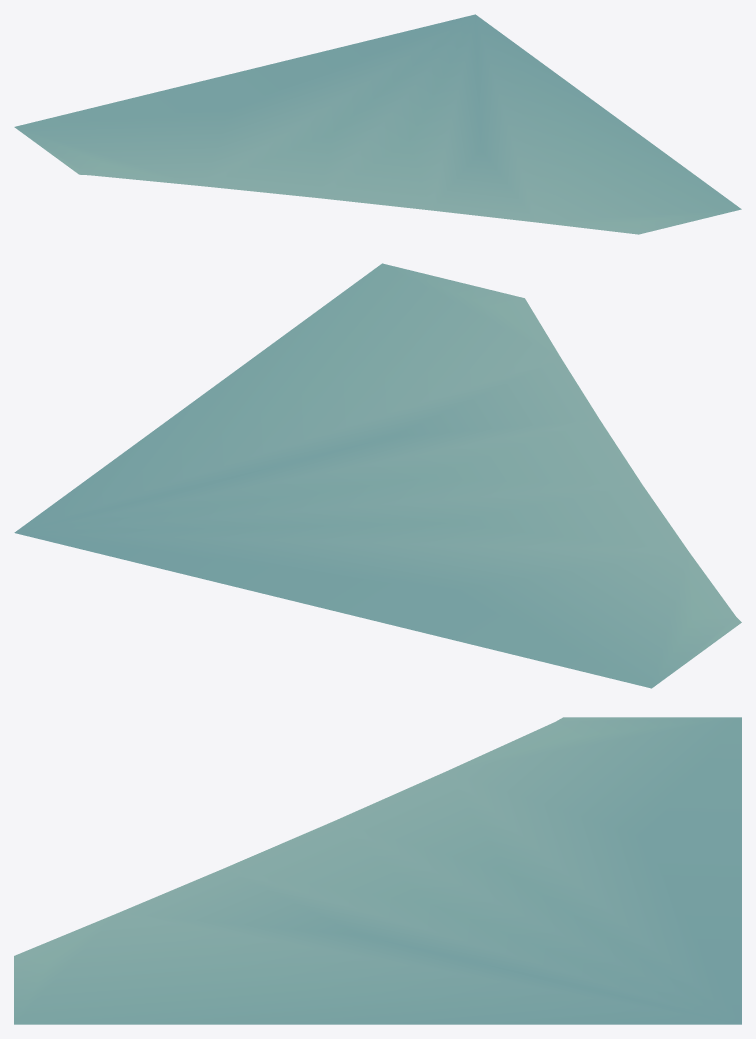
Rendered from water-23-9.glb.
3 views of the same model, one above another, from view 1: azimuth 30°, elevation 25°; view 2: azimuth 150°, elevation 25°; view 3: azimuth 270°, elevation 25° (orthographic). The views are drawn at different scales.
Bounding box in the file's own units: 16 × 0 × 16.
